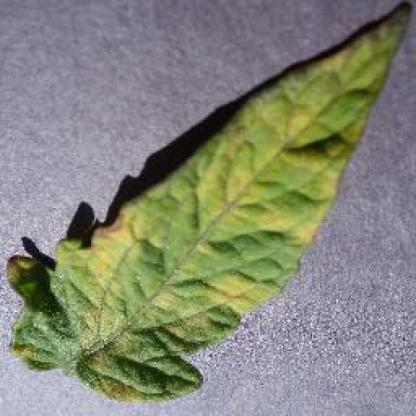Strawberry_Anthracnose_Fruit_Rot: (185, 158, 255, 217), (90, 224, 139, 276), (254, 207, 319, 241), (202, 274, 271, 304), (281, 104, 317, 154)
